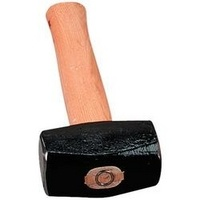hammer: (38, 2, 162, 199)
